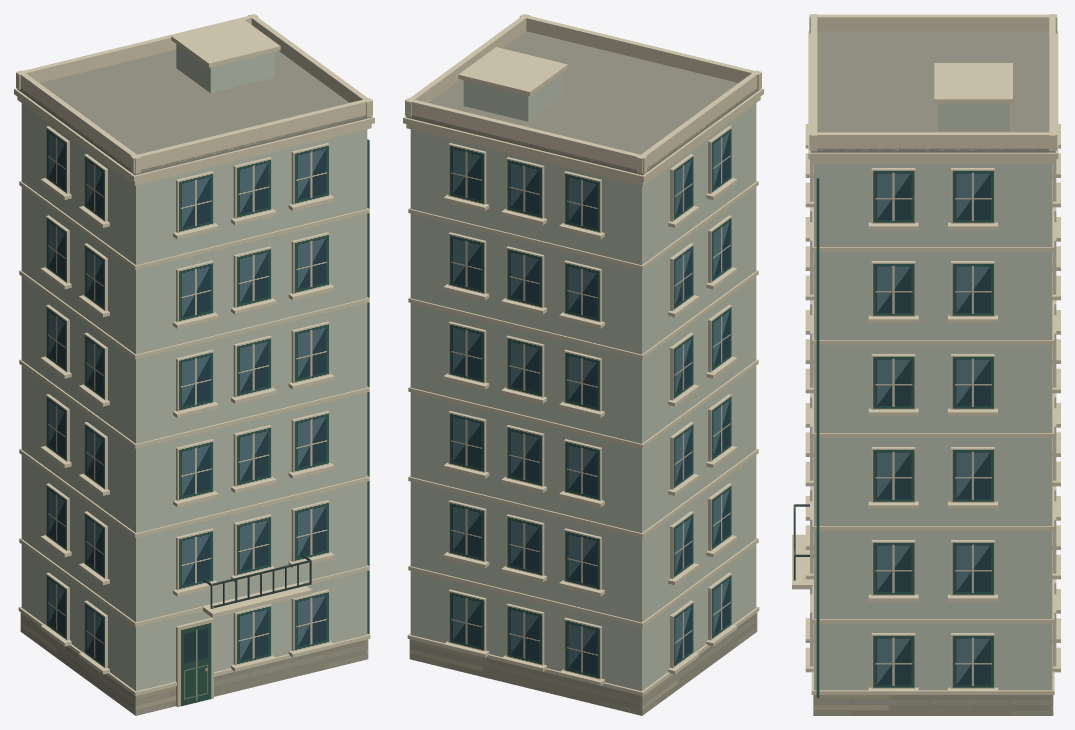
The model's file is SM_QD_G_Apartment6F.fbx.
3 renders of one model, left to right at view 1: azimuth 30°, elevation 25°; view 2: azimuth 150°, elevation 25°; view 3: azimuth 270°, elevation 25°, orthographic. The views are drawn at different scales.
Visible parts, largest first — view 1: SM_QD_G_Apartment6F; view 2: SM_QD_G_Apartment6F; view 3: SM_QD_G_Apartment6F.
Boxes of the visible parts, x1=… form: SM_QD_G_Apartment6F: x1=14, y1=14, x2=374, y2=715; SM_QD_G_Apartment6F: x1=403, y1=14, x2=763, y2=715; SM_QD_G_Apartment6F: x1=792, y1=14, x2=1060, y2=715.
Size of what is drawn, in the model's own units: 7.43 by 6.77 by 16.71.
Materials: 1 (1 with a texture image).
